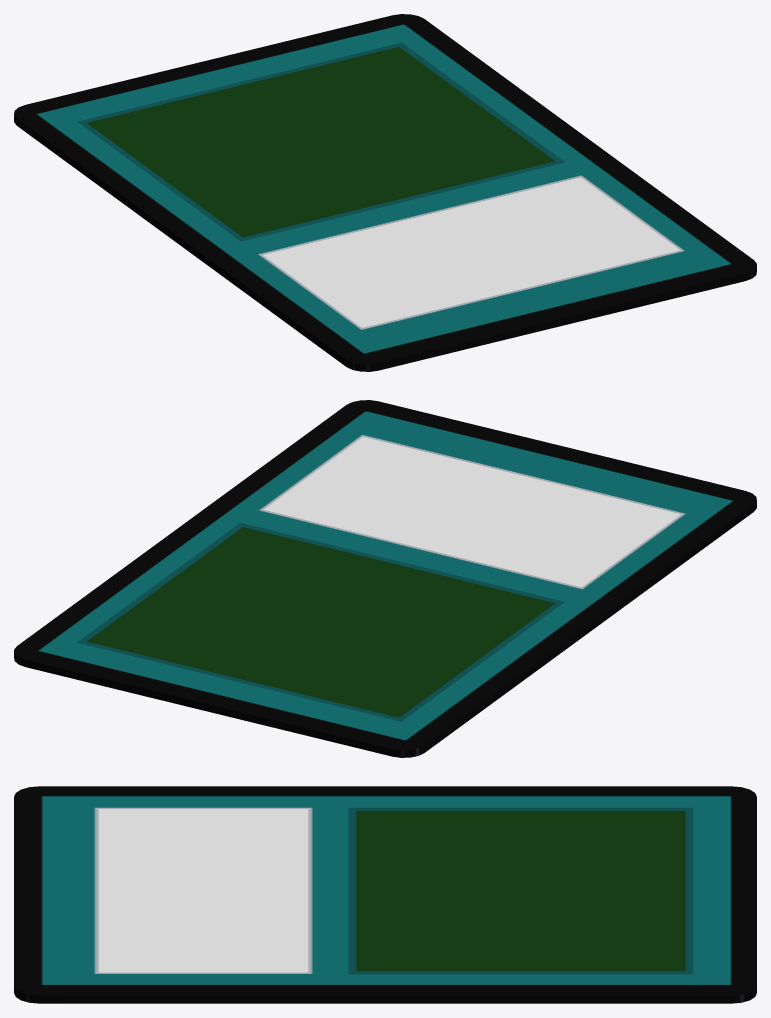
The model's file is Card_Top01.fbx.
3 views of the same model, one above another, from view 1: azimuth 30°, elevation 25°; view 2: azimuth 150°, elevation 25°; view 3: azimuth 270°, elevation 25° (orthographic). The views are drawn at different scales.
Parts seen in each view (by area): view 1: Card_Top01; view 2: Card_Top01; view 3: Card_Top01.
Boxes of the visible parts, left/top/right/bottom form: Card_Top01: left=14, top=14, right=756, bottom=371; Card_Top01: left=14, top=400, right=756, bottom=757; Card_Top01: left=14, top=786, right=756, bottom=1003.
Bounding box in the file's own units: 1 × 0.0175 × 1.5.
